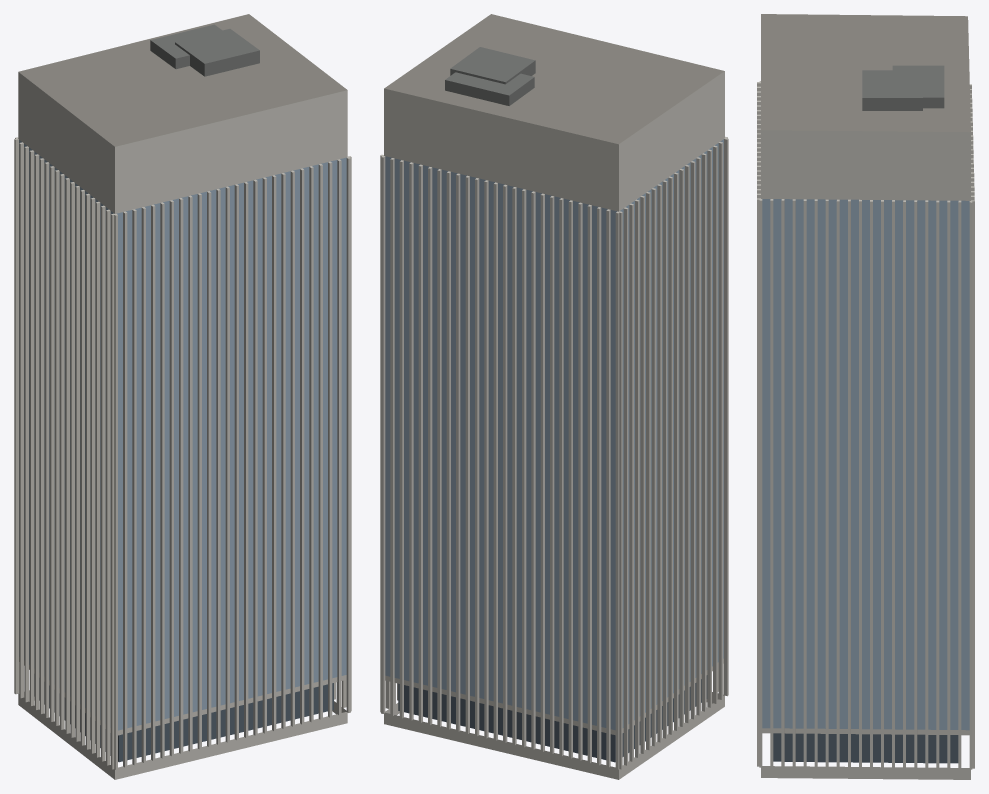
Rendered from union-national-bank-building.glb.
The picture shows the model from 3 angles, left to right: view 1: azimuth 30°, elevation 25°; view 2: azimuth 150°, elevation 25°; view 3: azimuth 270°, elevation 25°; orthographic projection. The views are drawn at different scales.
Parts seen in each view (by area): view 1: union_national_bank_building; view 2: union_national_bank_building; view 3: union_national_bank_building.
Boxes of the visible parts, x1,y1,x2,y2 form: union_national_bank_building: (14,14,351,779); union_national_bank_building: (380,14,728,779); union_national_bank_building: (757,14,974,779).
Bounding box in the file's own units: 41.33 × 105 × 31.32.
